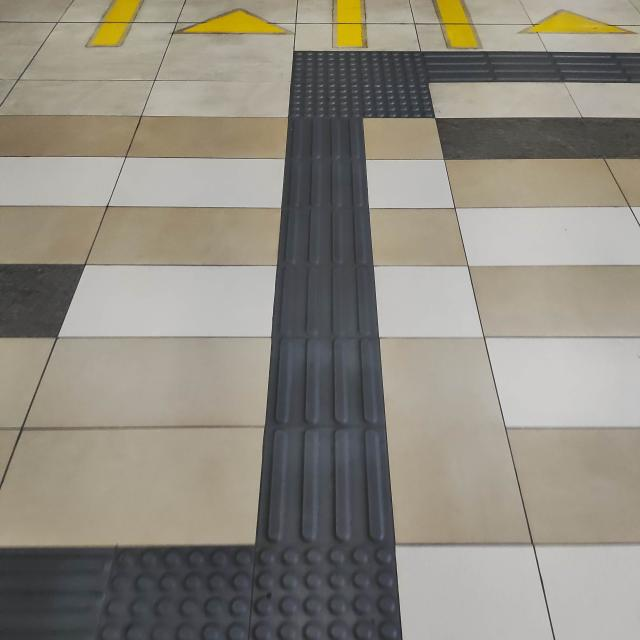kanan: (269, 36, 512, 140)
